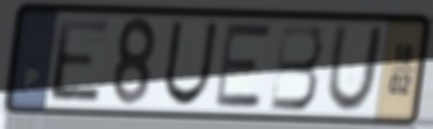8: (112, 15, 157, 110)
B: (267, 22, 325, 113)
E: (48, 16, 113, 107), (212, 21, 273, 110)
U: (323, 24, 387, 115), (160, 19, 221, 109)
